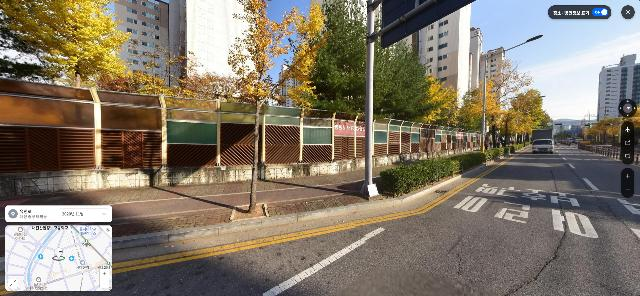ginkgo: (227, 0, 328, 215), (1, 0, 128, 88), (472, 48, 537, 150), (115, 20, 196, 97), (460, 75, 509, 149), (417, 73, 464, 127), (508, 89, 552, 146)
other: (300, 0, 436, 122), (186, 72, 241, 101)
